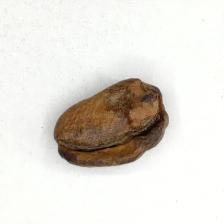NG: (56, 80, 163, 163)
